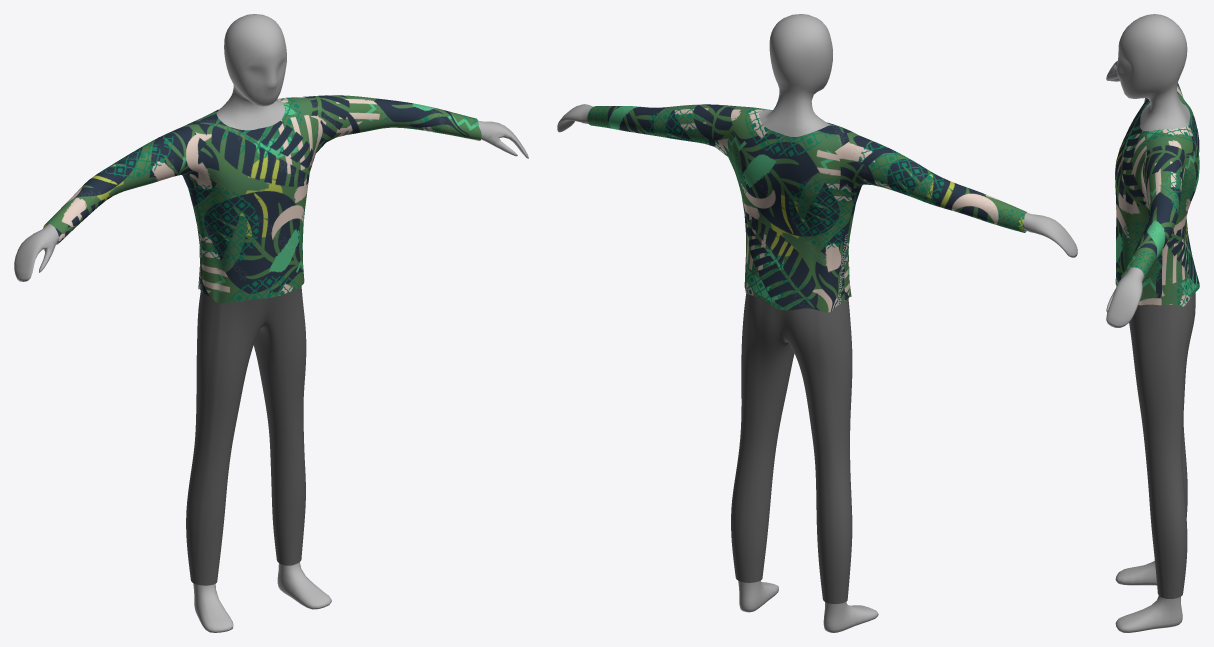
Rendered from Player1.fbx.
3 views of the same model, side by side, from view 1: azimuth 30°, elevation 25°; view 2: azimuth 150°, elevation 25°; view 3: azimuth 270°, elevation 25° (orthographic).
Visible parts, largest first — view 1: Top, Hose, Cube.002; view 2: Top, Hose, Cube.002; view 3: Top, Hose, Cube.002.
Part boxes in pixels (x1,y1,x2,y2): Top: (43, 95, 481, 303); Hose: (186, 286, 306, 585); Cube.002: (14, 14, 528, 632); Top: (587, 104, 1026, 312); Hose: (731, 293, 852, 603); Cube.002: (557, 14, 1077, 632); Top: (1115, 83, 1199, 307); Hose: (1129, 292, 1195, 598); Cube.002: (1106, 14, 1190, 632).
Bounding box in the file's own units: 160 × 177 × 25.62.
